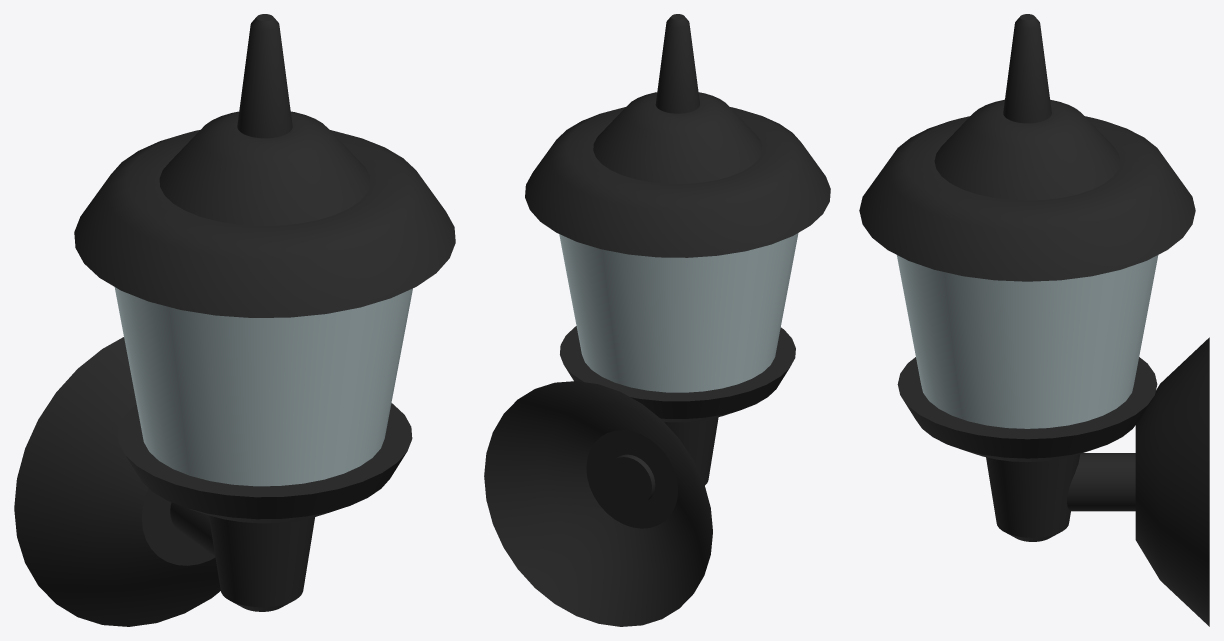
The model's file is Lamp.fbx.
3 views of the same model, side by side, from view 1: azimuth 30°, elevation 25°; view 2: azimuth 150°, elevation 25°; view 3: azimuth 270°, elevation 25° (orthographic). The views are drawn at different scales.
Visible parts, largest first — view 1: Circle, Cylinder; view 2: Circle, Cylinder; view 3: Circle, Cylinder.
Boxes of the visible parts, x1,y1,x2,y2 form: Circle: (14,14,455,626); Cylinder: (114,287,412,486); Circle: (484,14,830,626); Cylinder: (559,233,798,392); Circle: (859,14,1209,626); Cylinder: (897,255,1158,428).
Bounding box in the file's own units: 42.49 × 83.4 × 44.25.
